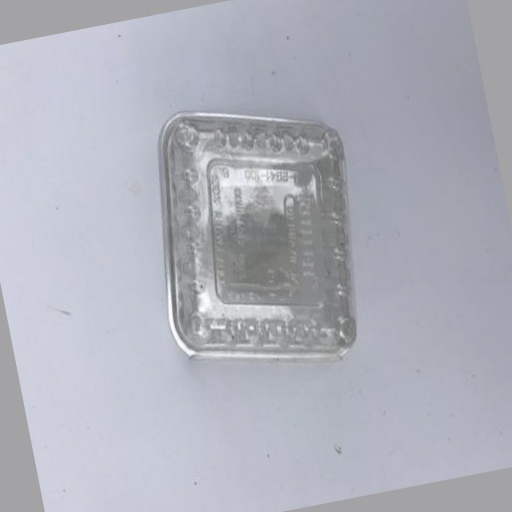Plastic_4: (157, 110, 359, 362)
